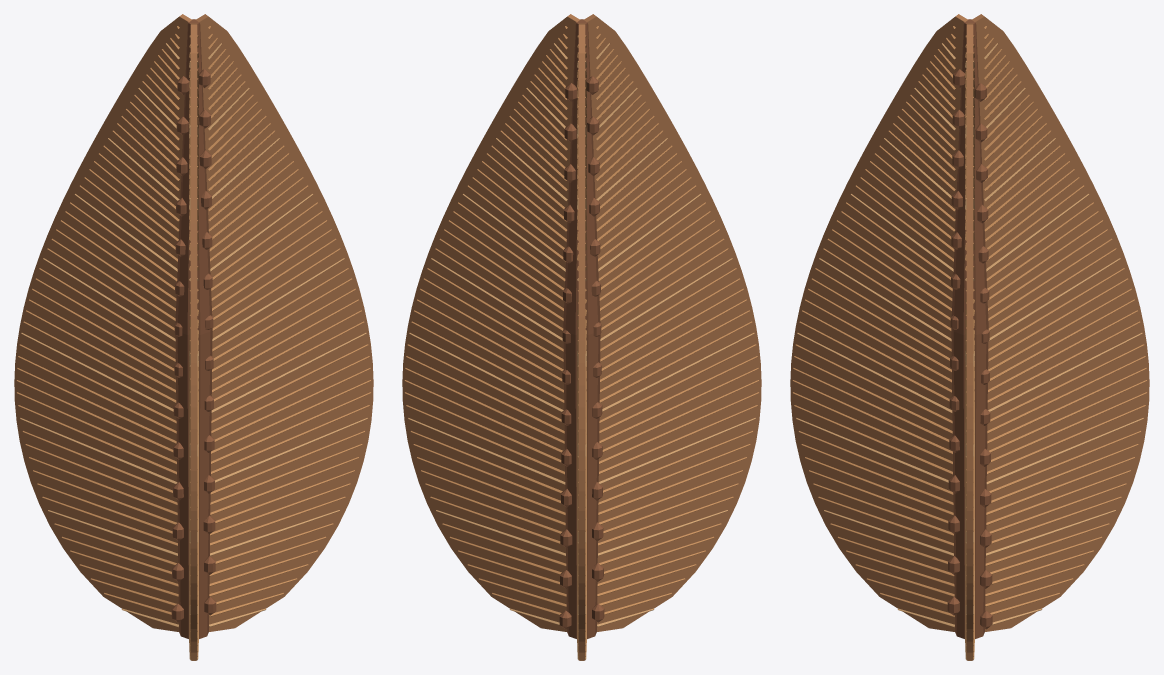
Rendered from swartpuntia.glb.
3 views of the same model, side by side, from view 1: azimuth 30°, elevation 25°; view 2: azimuth 150°, elevation 25°; view 3: azimuth 270°, elevation 25° (orthographic).
Visible parts, largest first — view 1: stemless-three-vaned-swartpuntia; view 2: stemless-three-vaned-swartpuntia; view 3: stemless-three-vaned-swartpuntia.
Boxes of the visible parts, x1=… form: stemless-three-vaned-swartpuntia: x1=14, y1=14, x2=373, y2=660; stemless-three-vaned-swartpuntia: x1=402, y1=14, x2=761, y2=660; stemless-three-vaned-swartpuntia: x1=790, y1=14, x2=1149, y2=660.
Bounding box in the file's own units: 0.0821 × 0.18 × 0.0948.
